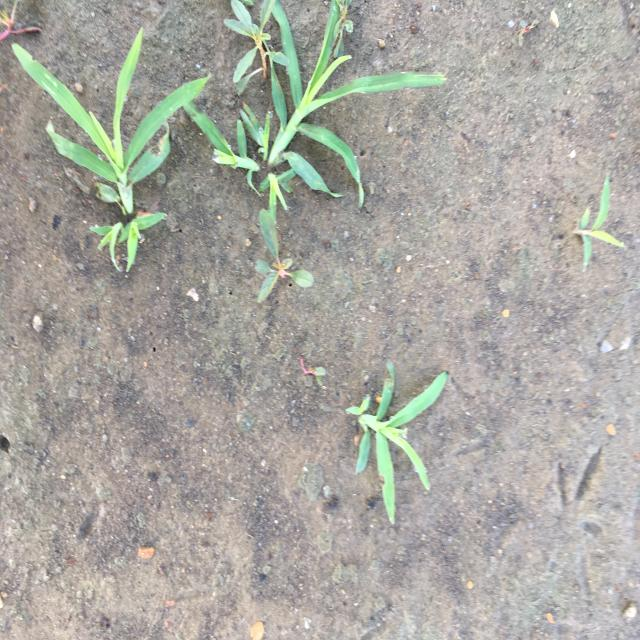Goosegrass: (180, 7, 449, 235), (10, 25, 214, 276), (344, 357, 450, 528)
Waterhemp: (222, 1, 294, 97), (253, 208, 317, 306)
